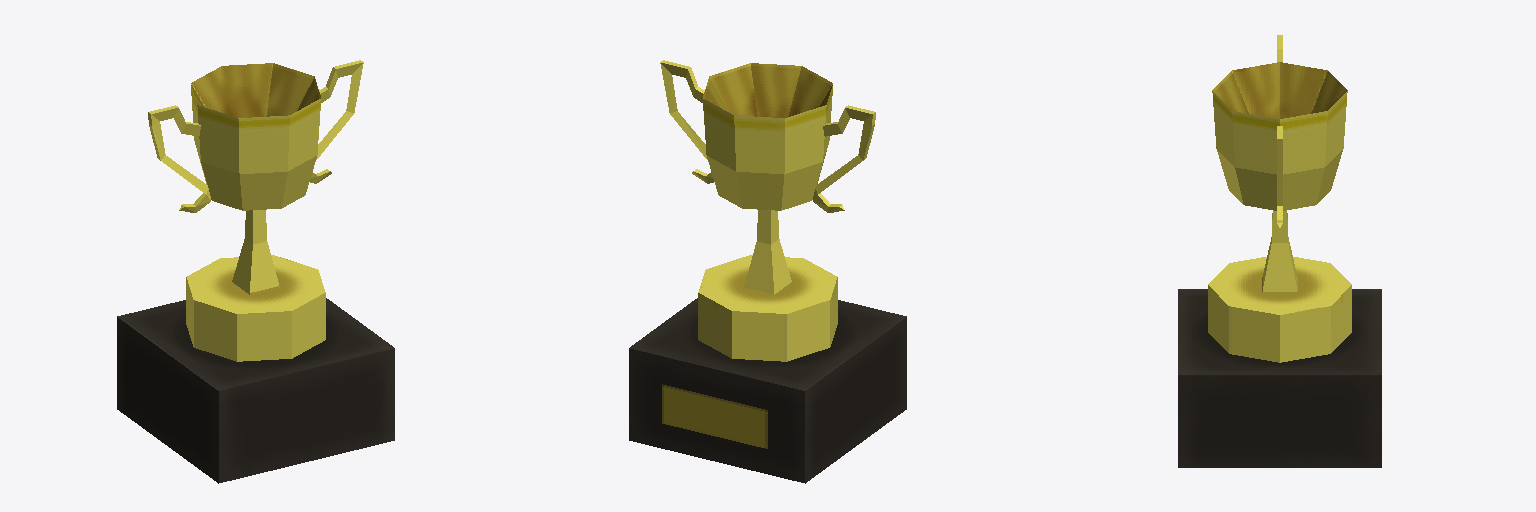
The picture shows the model from 3 angles: view 1: azimuth 30°, elevation 25°; view 2: azimuth 150°, elevation 25°; view 3: azimuth 270°, elevation 25°; orthographic projection.
Parts seen in each view (by area): view 1: HaH_Trophy; view 2: HaH_Trophy; view 3: HaH_Trophy.
Boxes of the visible parts, x1,y1,x2,y2 form: HaH_Trophy: [117, 60, 394, 483]; HaH_Trophy: [629, 60, 906, 483]; HaH_Trophy: [1178, 35, 1381, 467].
Bounding box in the file's own units: 3.77 × 5.72 × 3.13.
1 materials, 1 textured.